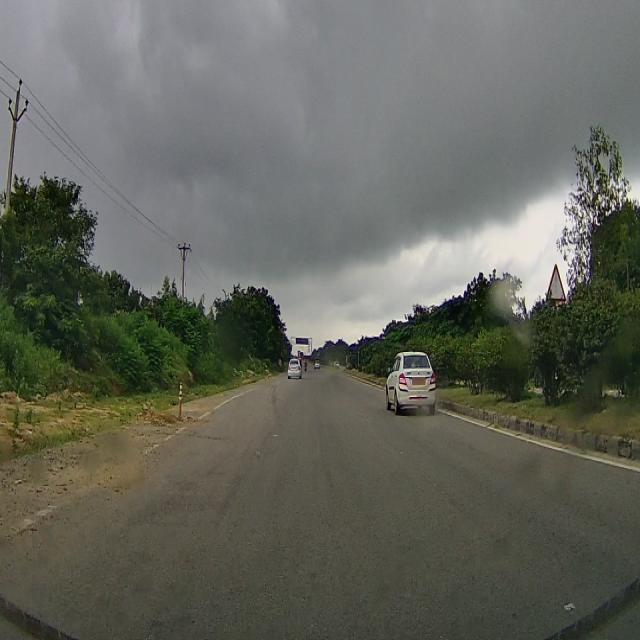car ahead at: (385, 348, 439, 418)
